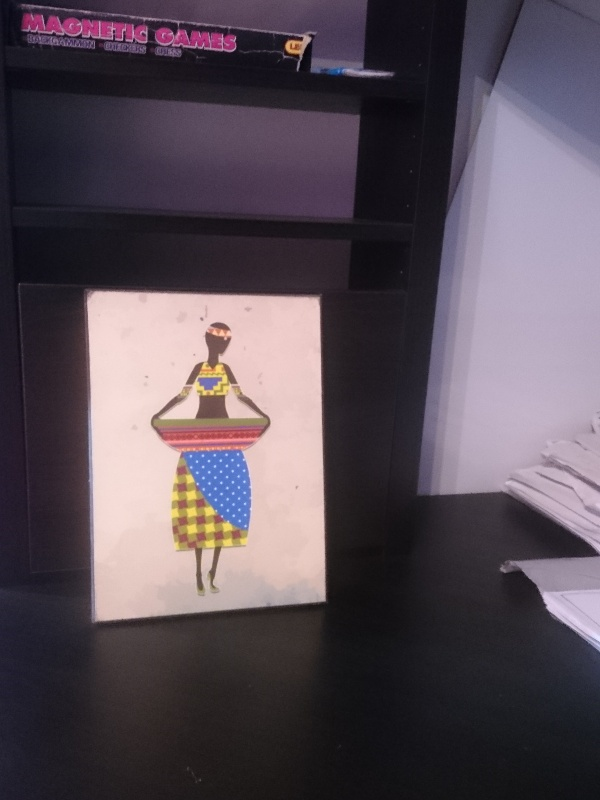my image: (94, 296, 321, 621)
